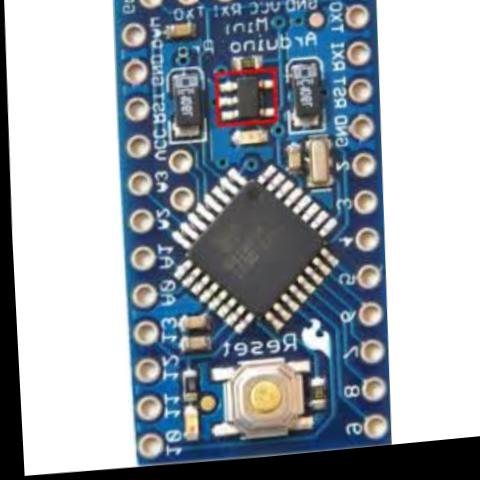Arduino-Pro-Mini: (104, 0, 395, 472)
